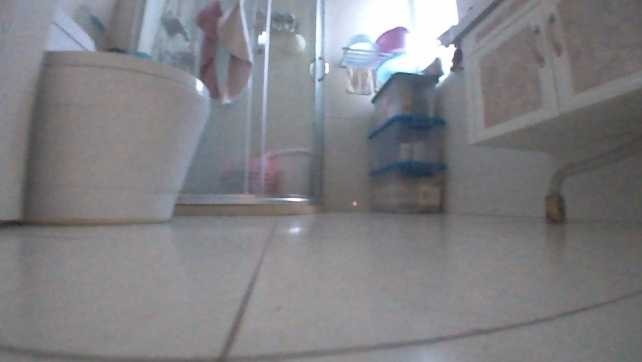door_sill: (175, 190, 324, 216)
toilet: (23, 6, 211, 224)
washstand: (437, 1, 640, 152)
